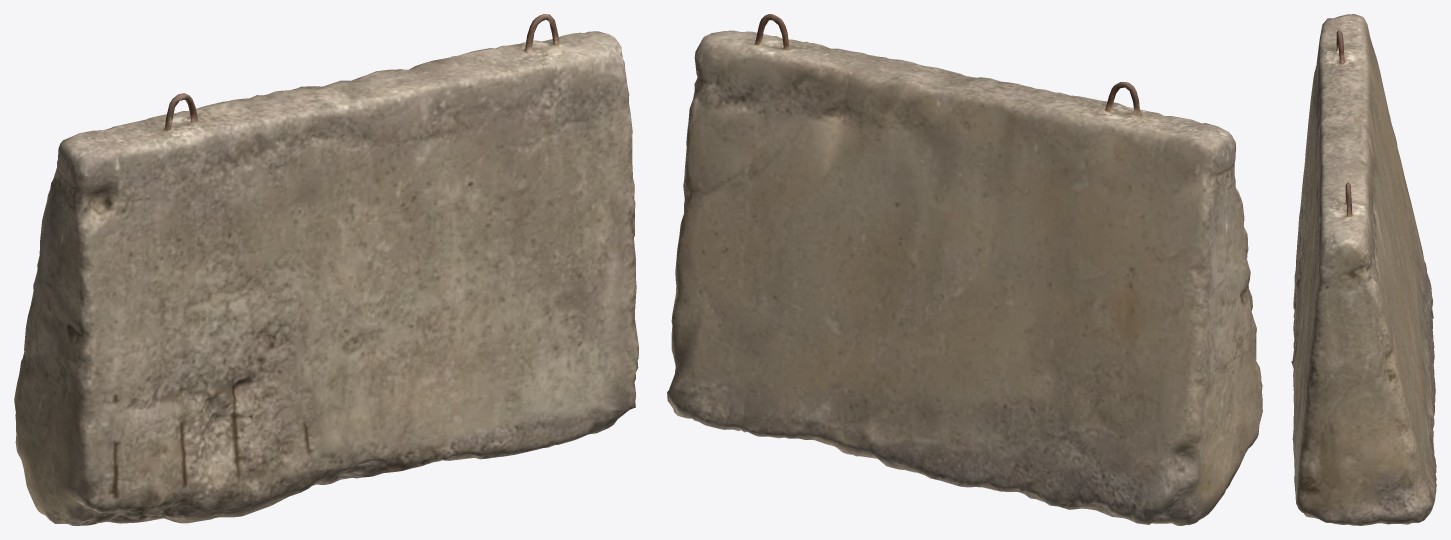
File: sci-fi-barrier.collider.glb
3 renders of one model, left to right at view 1: azimuth 30°, elevation 25°; view 2: azimuth 150°, elevation 25°; view 3: azimuth 270°, elevation 25°, orthographic. The views are drawn at different scales.
Parts seen in each view (by area): view 1: concrete_road_barrier_02; view 2: concrete_road_barrier_02; view 3: concrete_road_barrier_02.
Part boxes in pixels (x1,y1,x2,y2): concrete_road_barrier_02: (14, 14, 638, 525); concrete_road_barrier_02: (667, 14, 1262, 525); concrete_road_barrier_02: (1291, 14, 1436, 525).
Bounding box in the file's own units: 1.57 × 1.11 × 0.4422.
Materials: 1 (1 with a texture image).
